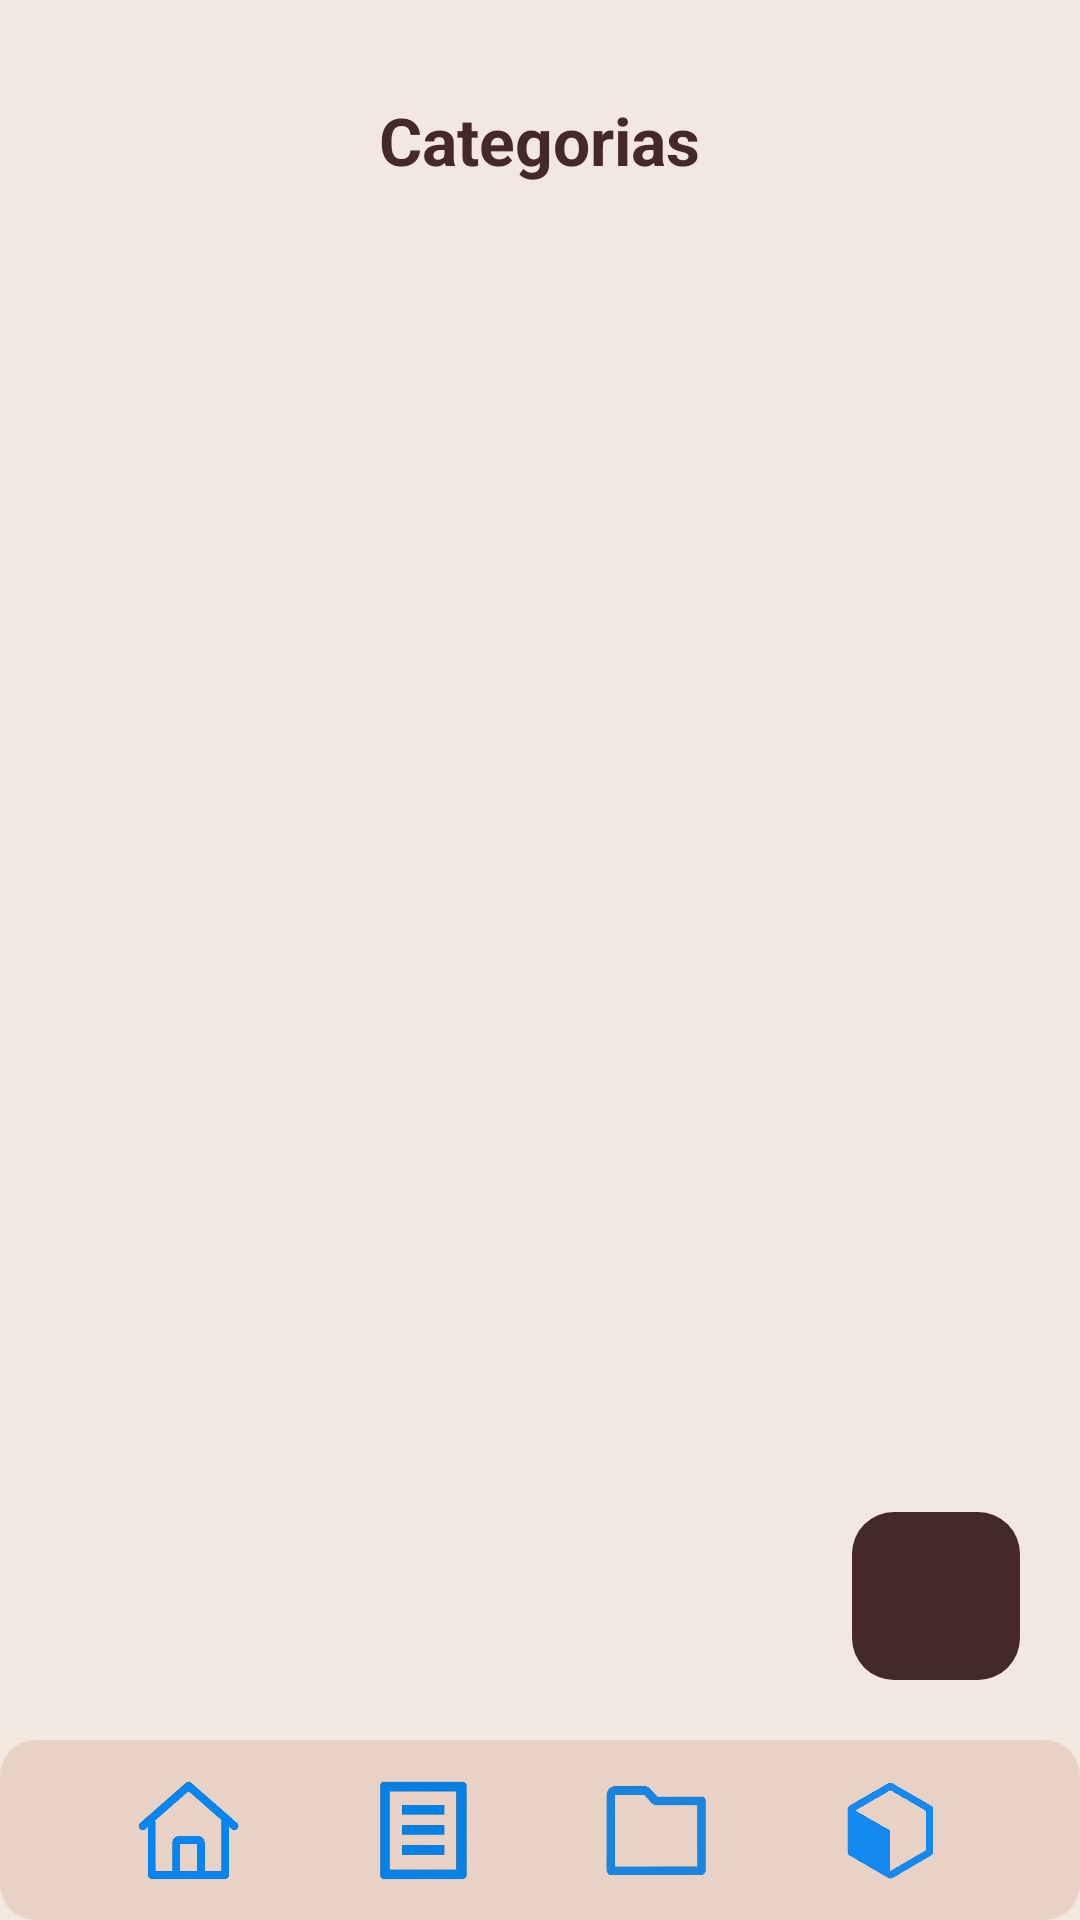

Where to tap for icons on this 1080w x 1920h app screen, as [x,y]:
caixa: [890,1831]
home: [189,1830]
lista: [423,1830]
